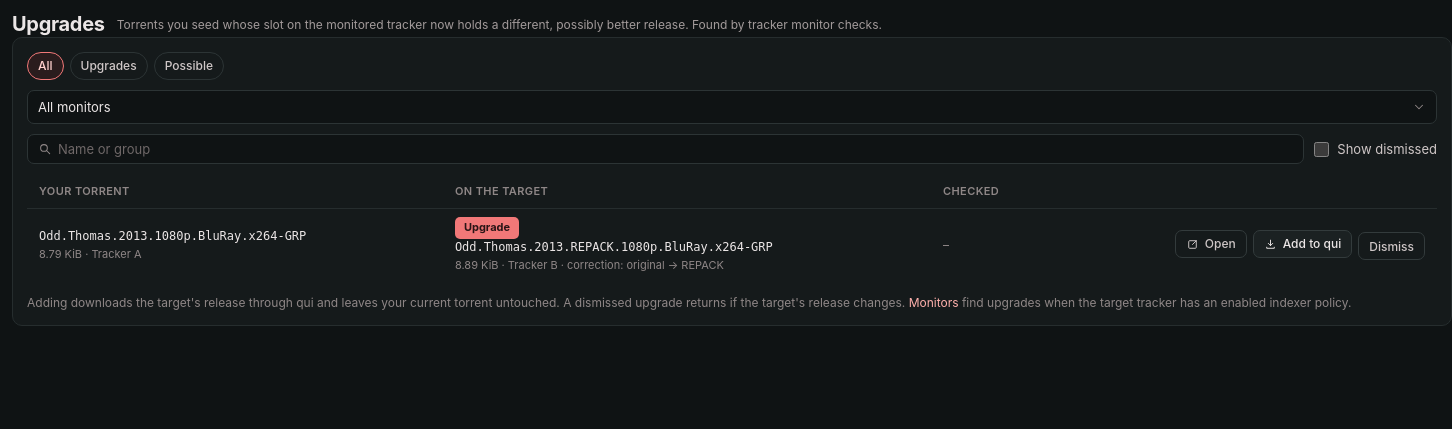
refetches and explains when the offer changed before a dismiss
This screenshot has width=1452, height=429.
What coordinates should you click on to do the following:
click the button "Dismiss"
I would click on:
 (1392, 246)
Its box is 1358,232 -> 1425,260.
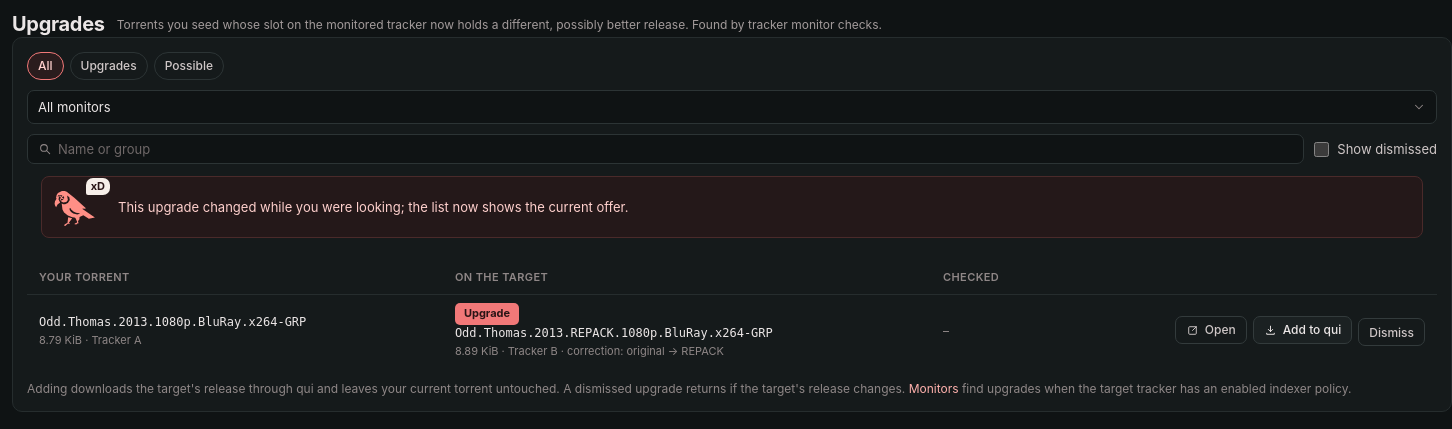
Expected: the text "changed while you were looking" is shown, 118,199 -> 628,215
